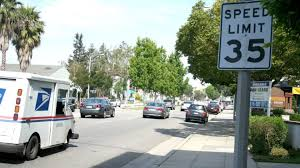speedLimit35: (219, 2, 271, 69)
